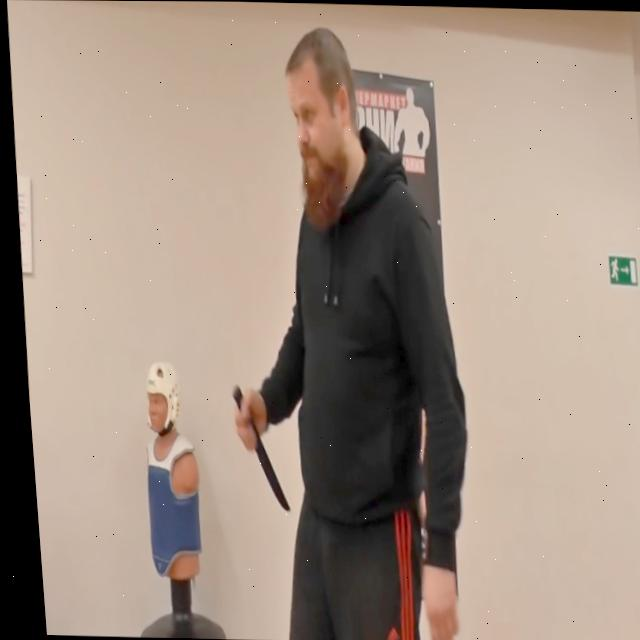knife: (243, 419, 284, 512)
